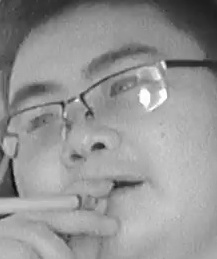eye: (106, 75, 138, 97), (25, 113, 55, 131)
glass: (79, 62, 167, 121), (4, 99, 66, 149)
